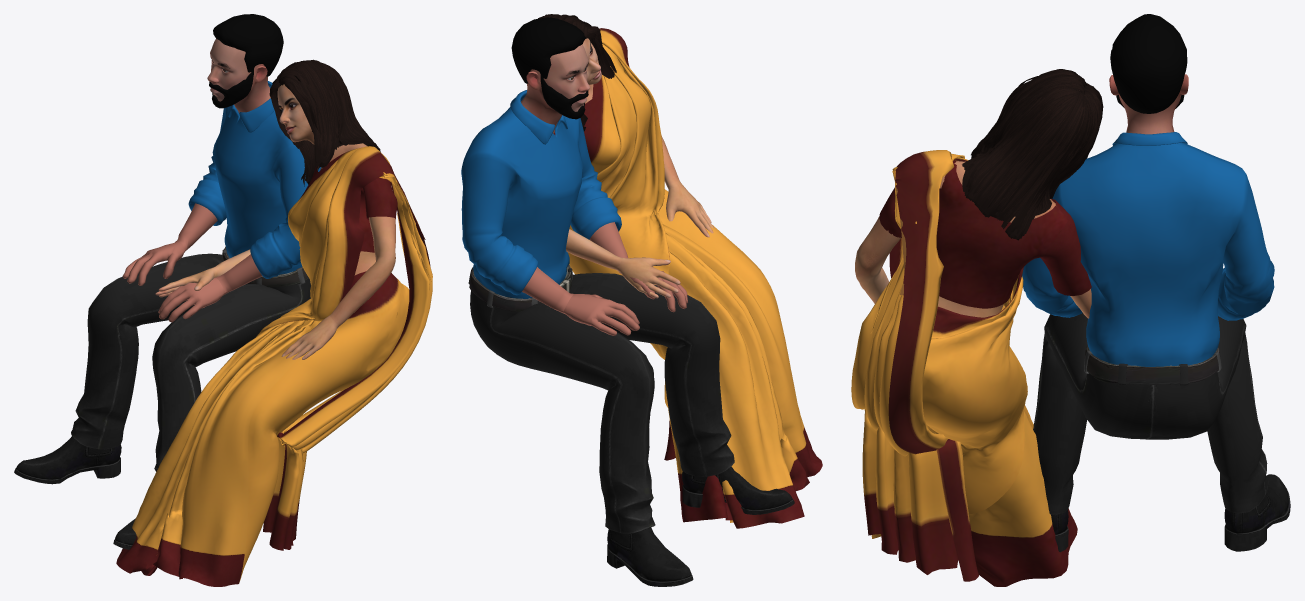
The model's file is CoupleOnBridge.gltf.
The picture shows the model from 3 angles, left to right: view 1: azimuth 30°, elevation 25°; view 2: azimuth 150°, elevation 25°; view 3: azimuth 270°, elevation 25°; orthographic projection. The views are drawn at different scales.
Visible parts, largest first — view 1: Object_17.001, Object_21, Object_25, Object_16, Object_7.001, Object_19, Object_23, Object_15, Object_11, Object_9.006, Object_17; view 2: Object_17.001, Object_21, Object_25, Object_23, Object_19, Object_7.001, Object_15, Object_11, Object_16, Object_17, Object_9.006; view 3: Object_17.001, Object_25, Object_21, Object_16, Object_15, Object_23, Object_7.001, Object_11.
Part boxes in pixels (x1,y1,x2,y2): Object_17.001: (116,146,432,586); Object_21: (71,247,310,471); Object_25: (188,81,321,278); Object_16: (269,59,380,186); Object_7.001: (155,166,395,359); Object_19: (122,203,262,322); Object_23: (14,436,136,549); Object_15: (213,14,283,76); Object_11: (207,38,270,113); Object_9.006: (277,84,367,169); Object_17: (209,69,253,108); Object_17.001: (553,28,822,528); Object_21: (468,265,734,533); Object_25: (461,90,621,298); Object_23: (607,466,794,586); Object_19: (522,222,687,335); Object_7.001: (566,135,713,298); Object_15: (511,17,585,83); Object_11: (521,44,589,133); Object_16: (538,14,616,131); Object_17: (540,75,588,119); Object_9.006: (582,38,601,103); Object_17.001: (851,150,1091,586); Object_25: (1022,132,1274,366); Object_21: (1033,312,1268,515); Object_16: (962,69,1103,240); Object_15: (1110,14,1187,113); Object_23: (1051,474,1290,552); Object_7.001: (855,175,1091,318); Object_11: (1109,74,1188,134).
Size of the model in its own units: 11.87 by 20.48 by 13.09.
Materials: 15 (14 with a texture image).
